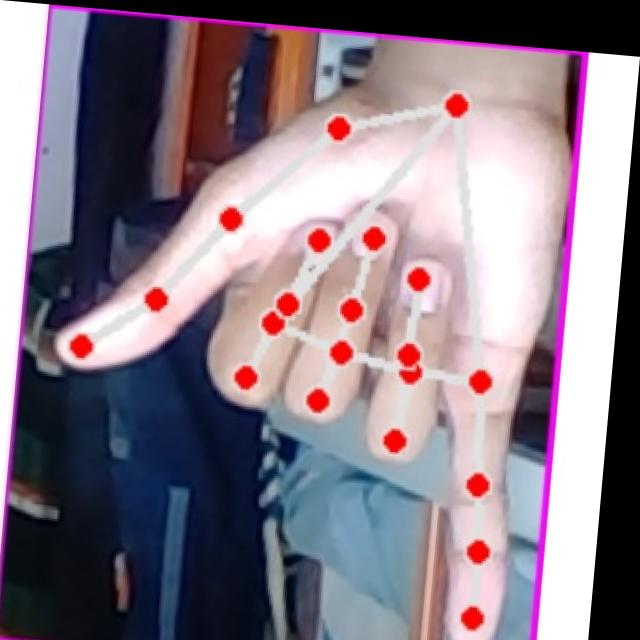Y: (32, 43, 568, 640)
